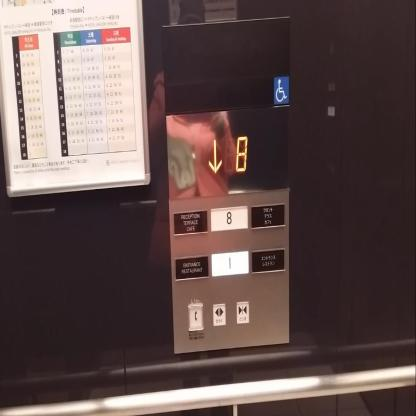1: (210, 250, 249, 277)
8: (210, 206, 249, 232)
CH: (272, 74, 290, 104)
call: (186, 302, 204, 333)
close: (235, 298, 250, 326)
led: (164, 104, 290, 200)
open: (212, 301, 226, 328)
